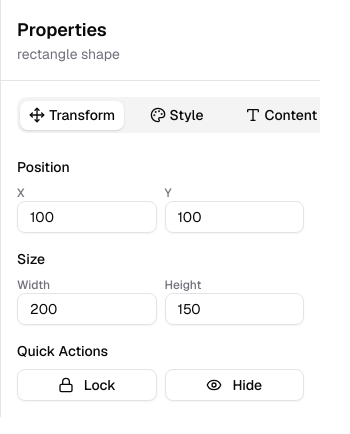
Scenario: PropertyPanel › Content Tab › shows shape type information
The image size is (350, 434).
Click the tab "Content".
click(281, 115)  # box [229, 100, 333, 130]
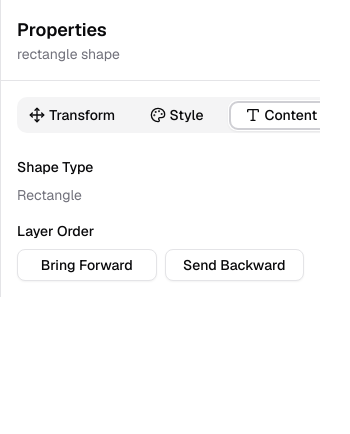
Expected: the text "Shape Type" is shown, [17, 158, 93, 176]
Expected: the text "rectangle" is shown, [17, 186, 82, 204]
